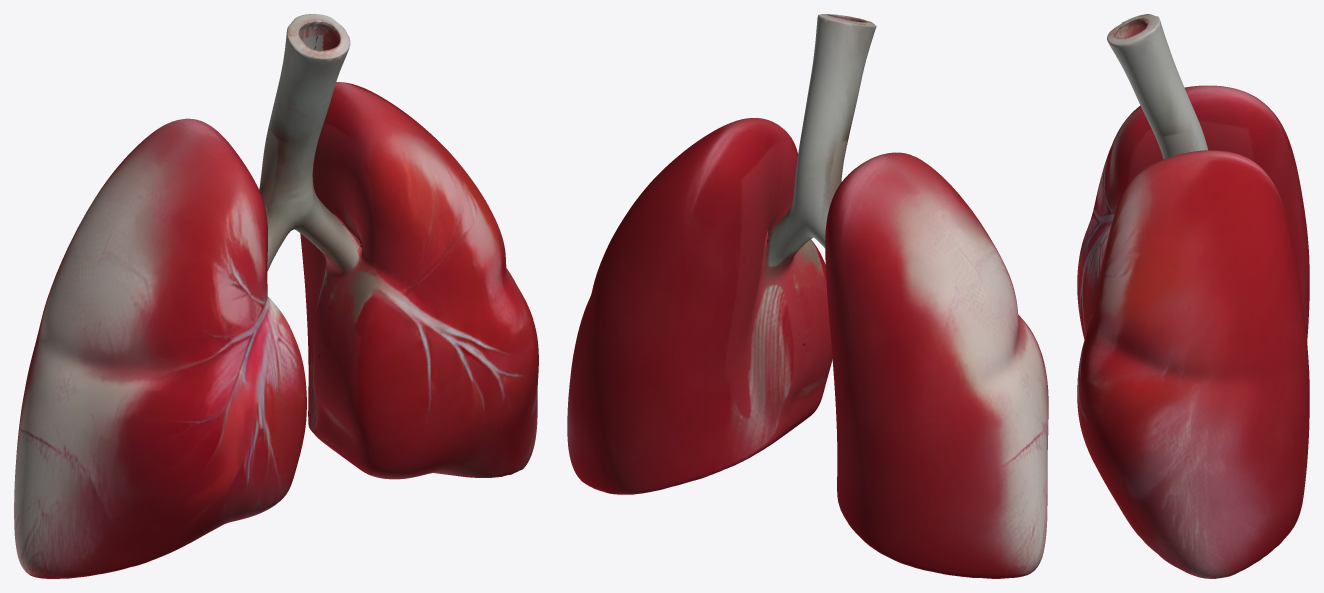
The model's file is vet_v2_path_pneumonia-lung.glb.
3 renders of one model, left to right at view 1: azimuth 30°, elevation 25°; view 2: azimuth 150°, elevation 25°; view 3: azimuth 270°, elevation 25°, orthographic. The views are drawn at different scales.
Visible parts, largest first — view 1: model; view 2: model; view 3: model.
Boxes of the visible parts, x1=… form: model: x1=14, y1=14, x2=538, y2=578; model: x1=567, y1=14, x2=1048, y2=578; model: x1=1077, y1=14, x2=1309, y2=578.
Size of the model in its own units: 1.9 by 1.86 by 0.8616.
1 material, 1 textured.
